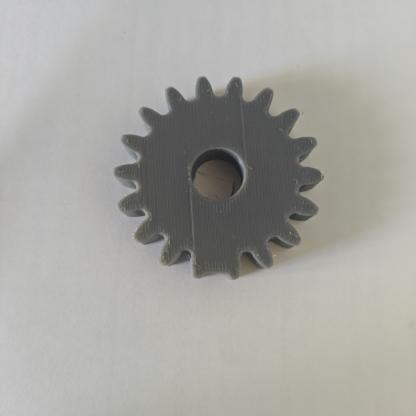gear: (94, 65, 340, 294)
